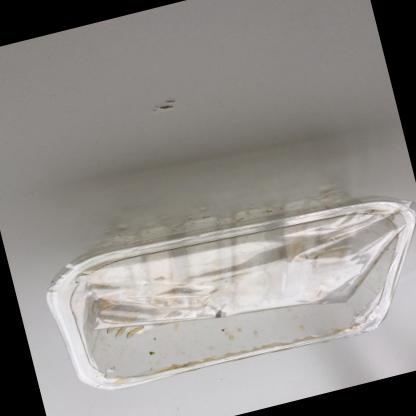Plastic: (46, 198, 416, 385)
Waste: (46, 190, 416, 389)
